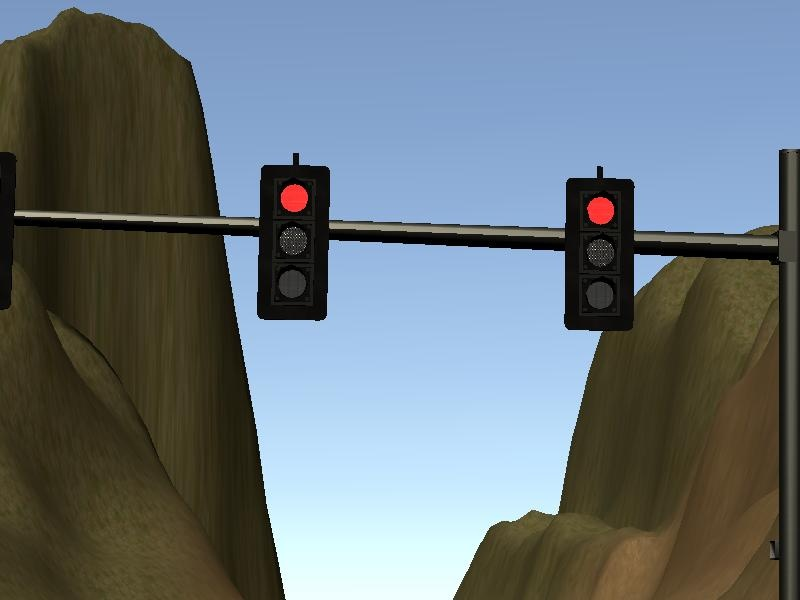RED: (564, 178, 635, 334), (258, 165, 329, 321)
